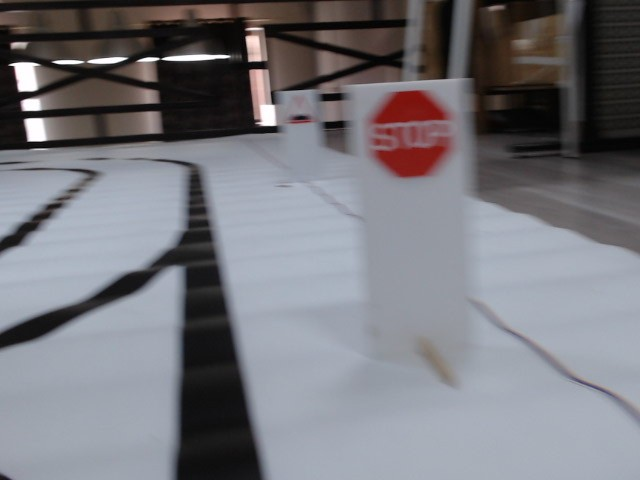Stop: (372, 91, 455, 177)
